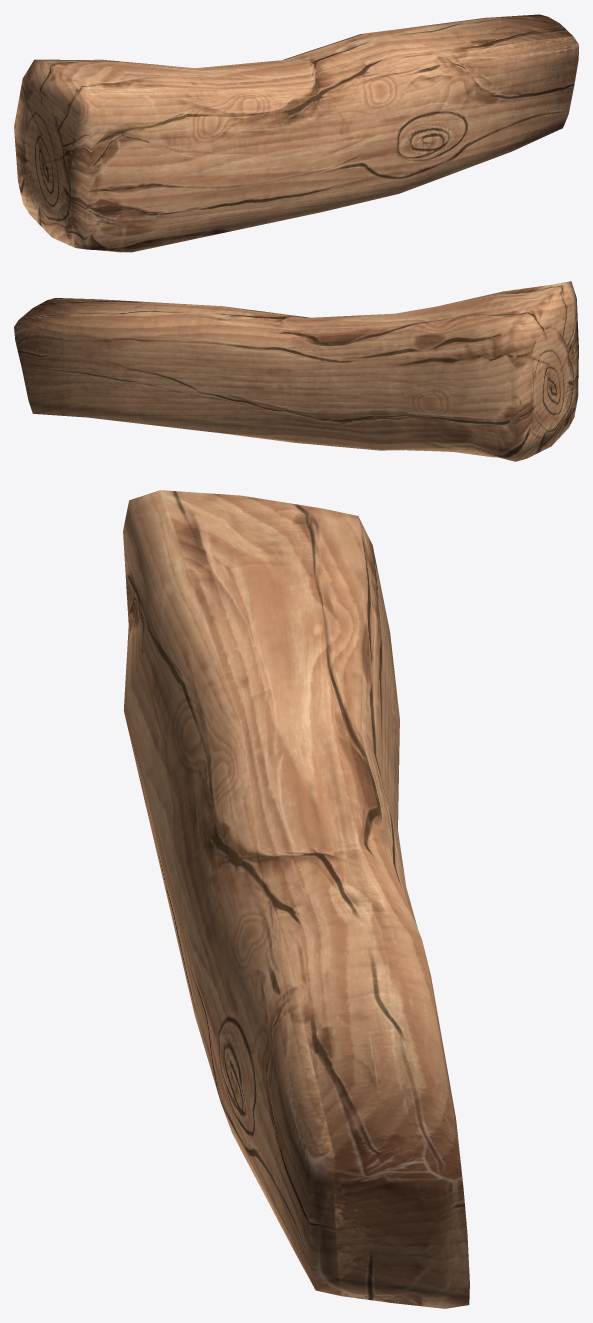
Rendered from SM_ShortBeam.fbx.
3 views of the same model, one above another, from view 1: azimuth 30°, elevation 25°; view 2: azimuth 150°, elevation 25°; view 3: azimuth 270°, elevation 25° (orthographic). The views are drawn at different scales.
Visible parts, largest first — view 1: SM_ShortBeam_LOD0; view 2: SM_ShortBeam_LOD0; view 3: SM_ShortBeam_LOD0.
Boxes of the visible parts, <box> form: SM_ShortBeam_LOD0: <box>14,14,578,252</box>; SM_ShortBeam_LOD0: <box>14,281,578,461</box>; SM_ShortBeam_LOD0: <box>123,490,469,1308</box>.
Bounding box in the file's own units: 421 × 129 × 153.
1 material, 1 textured.
